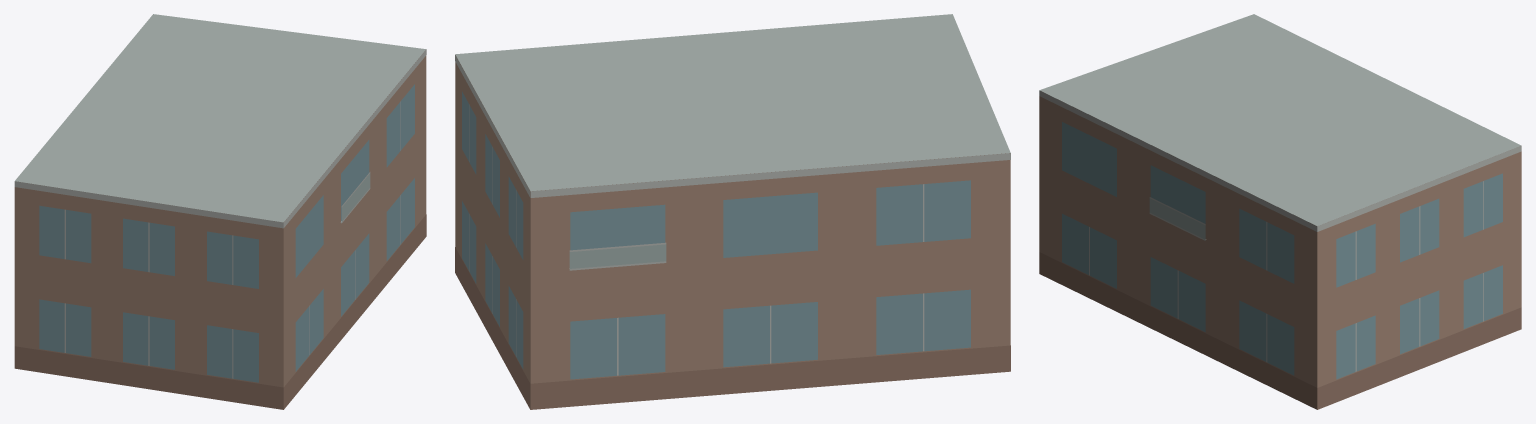
The model's file is survey-upis-32922674.glb.
3 views of the same model, side by side, from view 1: azimuth 30°, elevation 25°; view 2: azimuth 150°, elevation 25°; view 3: azimuth 270°, elevation 25° (orthographic). The views are drawn at different scales.
Parts seen in each view (by area): view 1: survey-upis-32922674.tmp; view 2: survey-upis-32922674.tmp; view 3: survey-upis-32922674.tmp.
Part boxes in pixels (x1=…): survey-upis-32922674.tmp: x1=14, y1=14, x2=426, y2=409; survey-upis-32922674.tmp: x1=455, y1=14, x2=1010, y2=409; survey-upis-32922674.tmp: x1=1039, y1=14, x2=1521, y2=409.
Size of the model in its own units: 19.23 by 7.75 by 18.46.
